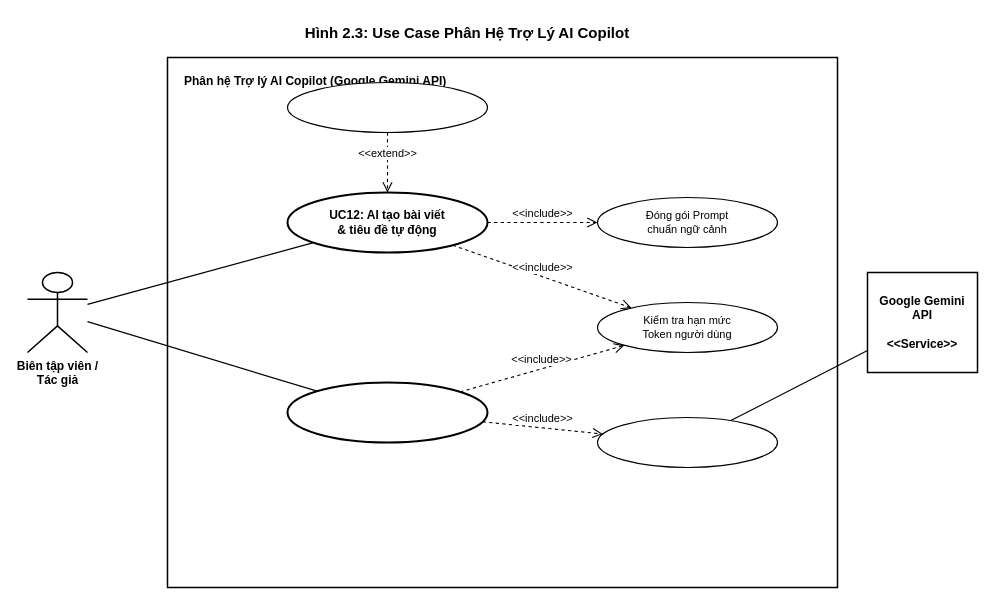
Image size: 996x605. Some labels were removed from this diagram. The shapes that lost their labels are listed below. From the top down, each one's centre as x and y in pixels, then its label:
At pixel 387 107: "Tinh chỉnh prompt & tạo lại (Regenerate)".
At pixel 387 412: "UC13: AI tóm tắt tin & gợi ý Media".
At pixel 687 442: "Gọi Gemini Streaming & Nhận phản hồi".
